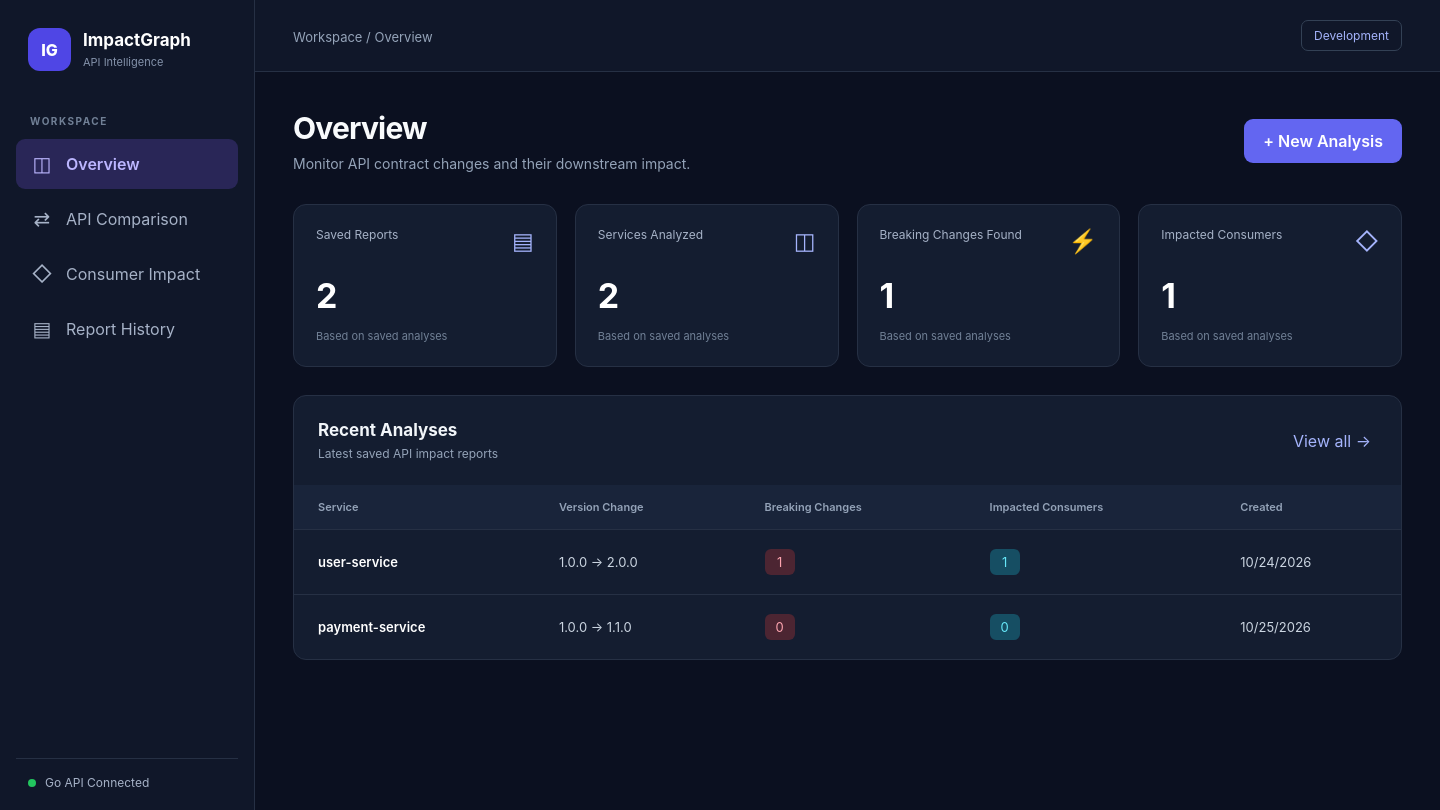
Test: ImpactGraph App › opens API Comparison from New Analysis
Click the button "+ New Analysis" at [1323, 141], box 1244,119 -> 1402,163
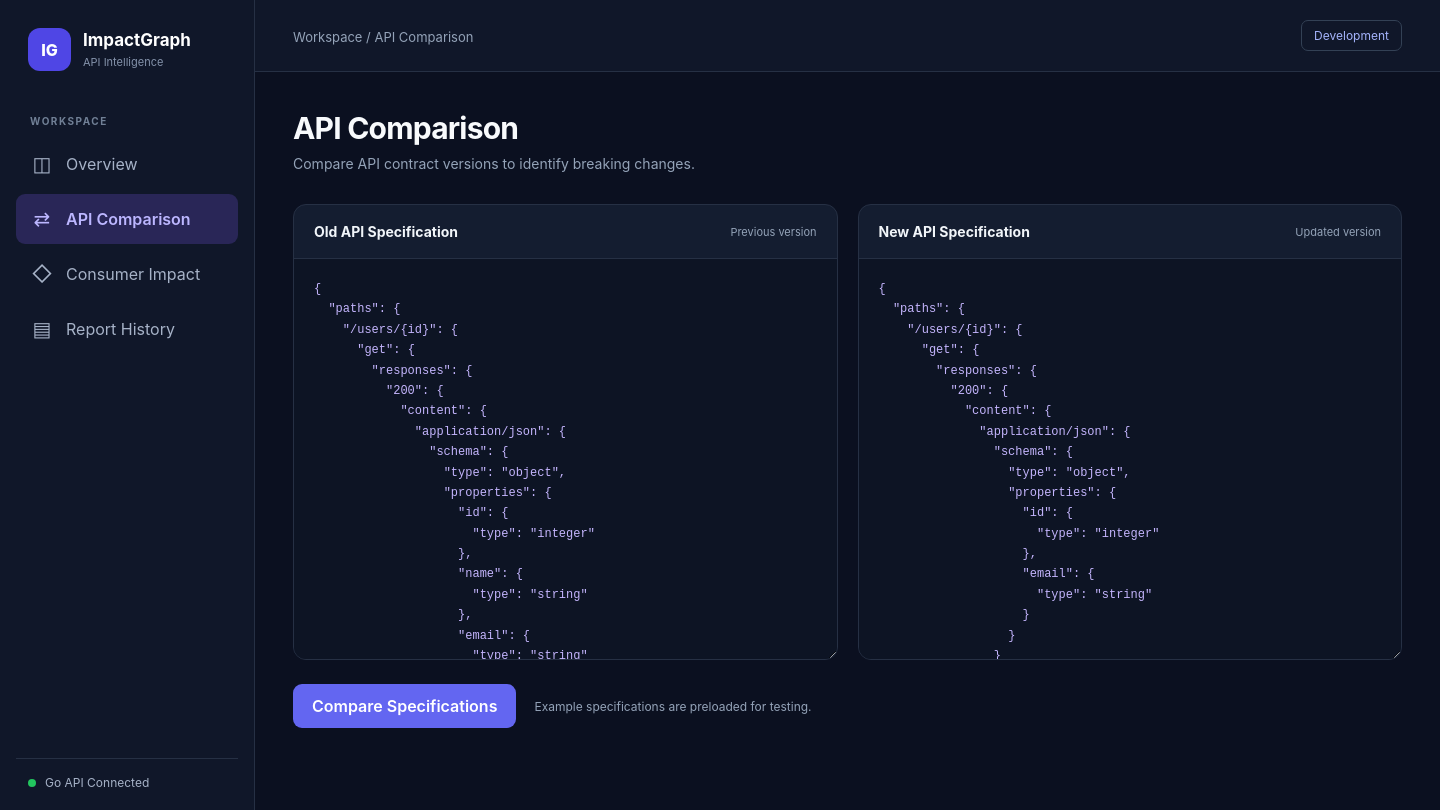
Now the heading "API Comparison" is shown, box 293,110 -> 518,146
